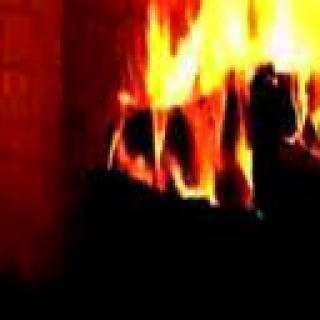fire: (155, 0, 320, 139)
